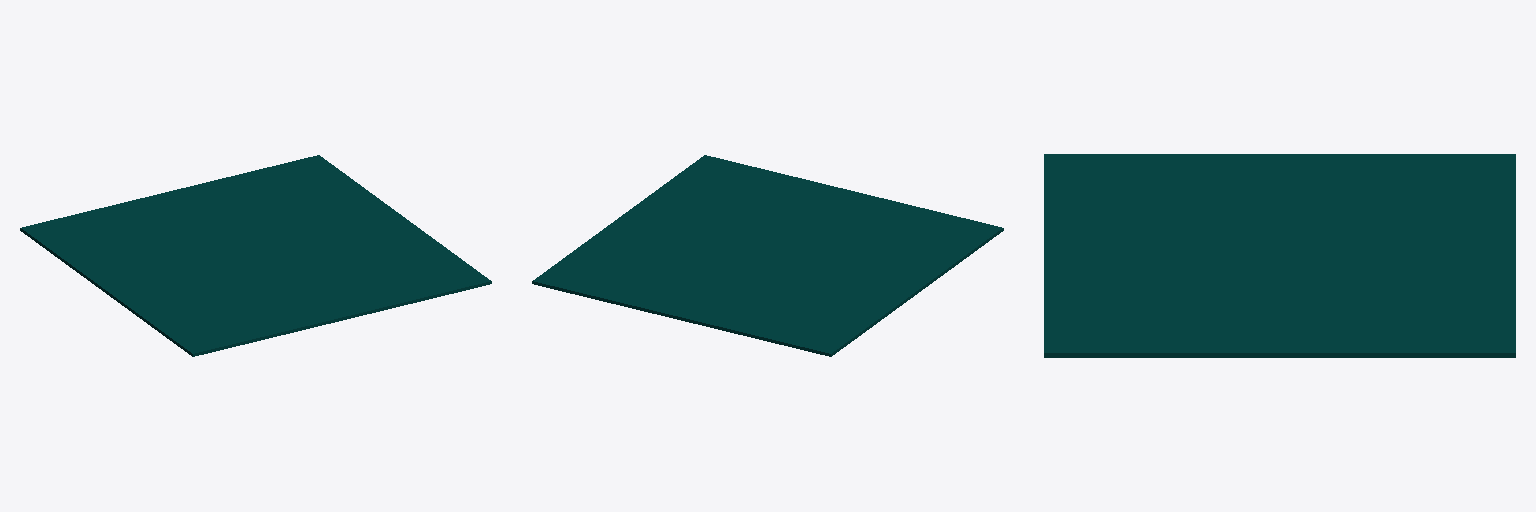
The robot description file, URDF, robot "table":
<robot name="table">
  <link name="table">

    <!-- rosrun gazebo_ros spawn_model -file $(rospack find ur5_single_arm_tufts)/urdf/objects/table.urdf -urdf -x 0.5 -y -0 -z 0.75 -model table -->
    
    <inertial>
      <origin xyz="0.23 0 0.755" rpy="0 0 0" />
      <mass value="1"/>
      <inertia
        ixx="0.07" ixy="0.0" ixz="0.0"
        iyy="0.40" iyz="0.0"
        izz="0.33"/>
    </inertial>

    <visual>
      <geometry>
        <box size="1 1 0.01"/>
      </geometry>
      <material name="Green">
        <color rgba="0.039 0.306 0.302 1"/>
      </material>
    </visual>

    <collision>
      <geometry>
        <box size="1 1 0.01"/>
      </geometry>
    </collision>

  </link>

  <gazebo reference="table">
    <material>Gazebo/Wood</material>
  </gazebo> 

  <gazebo>
    <static>true</static>
  </gazebo>

  <link name="world"/>

  <joint name="world_arm_joint" type="fixed">
    <parent link="world"/>
    <child link="table"/>
    <origin rpy="0.0 0.0 0" xyz="0 -0.25 0.2"/>
  </joint>

</robot>

--- Facts derived from the render (not from the file) ---
The picture shows the robot from 3 angles, left to right: view 1: azimuth 30°, elevation 25°; view 2: azimuth 150°, elevation 25°; view 3: azimuth 270°, elevation 25°; orthographic projection.
Model table with 2 links and 1 joints (1 fixed), rooted at world, posed all joints at 0.
Visible links, largest first — view 1: table; view 2: table; view 3: table.
Link boxes in pixels (x1=…): table: x1=20, y1=155, x2=491, y2=356; table: x1=532, y1=155, x2=1003, y2=356; table: x1=1044, y1=154, x2=1515, y2=357.
Bounding box of the posed robot: 1 × 1 × 0.01 m (x, y, z).
Geometry: primitives only (box / cylinder / sphere), no mesh files.